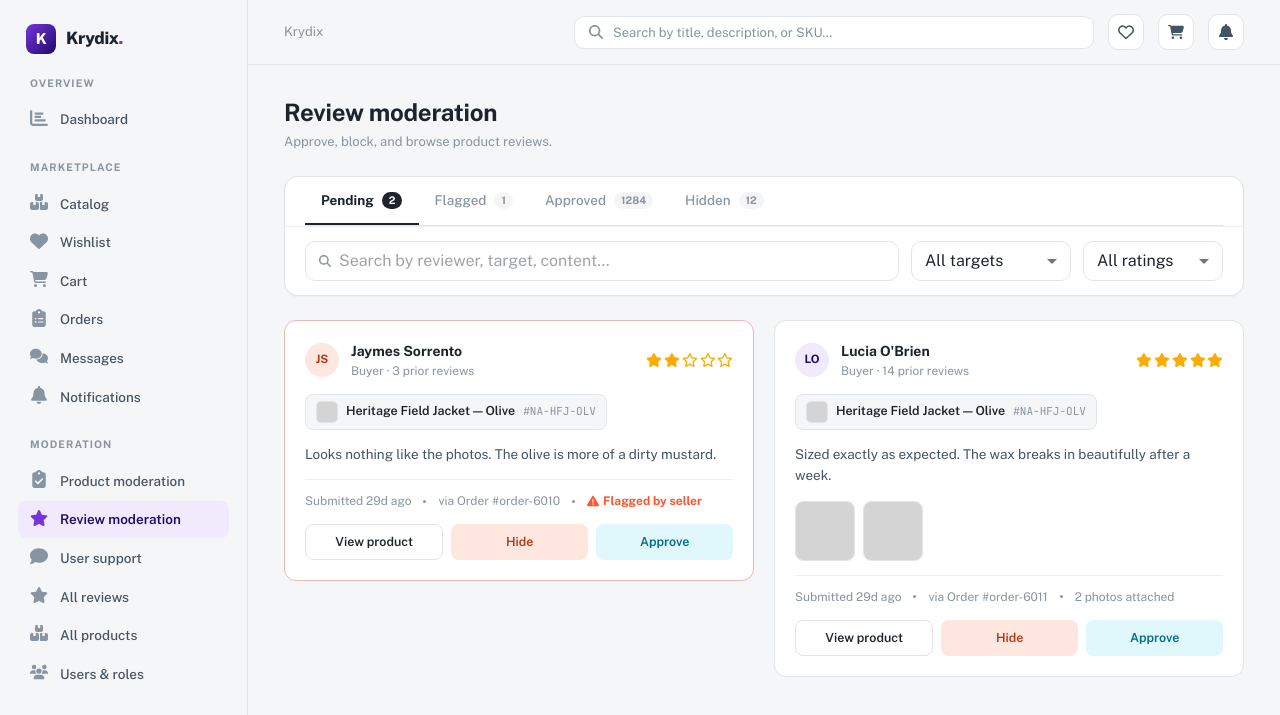
ReviewModerationPage › hides a review
The width and height of the screenshot is (1280, 715).
Step 1. Click the button "Hide" below "via Order #order-6010" → click(520, 542), box 451,524 -> 588,560
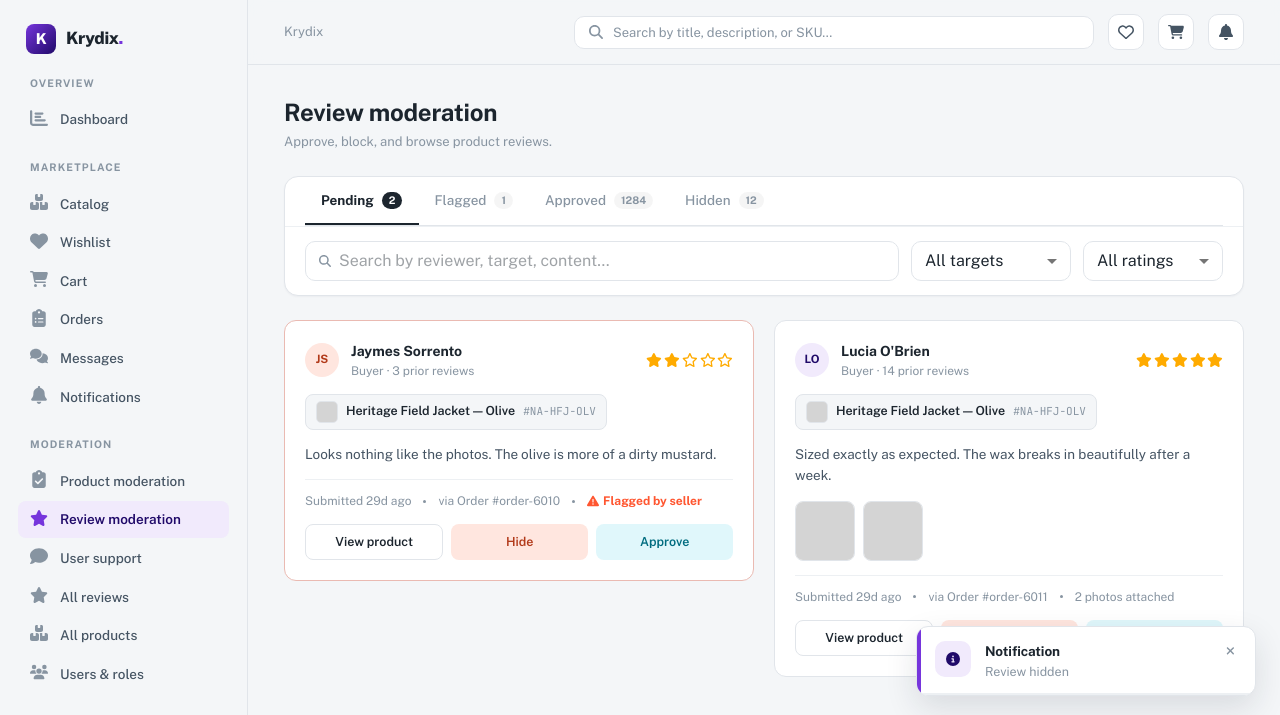
Check: the text "Review hidden" is shown, box 985,664 -> 1069,679
